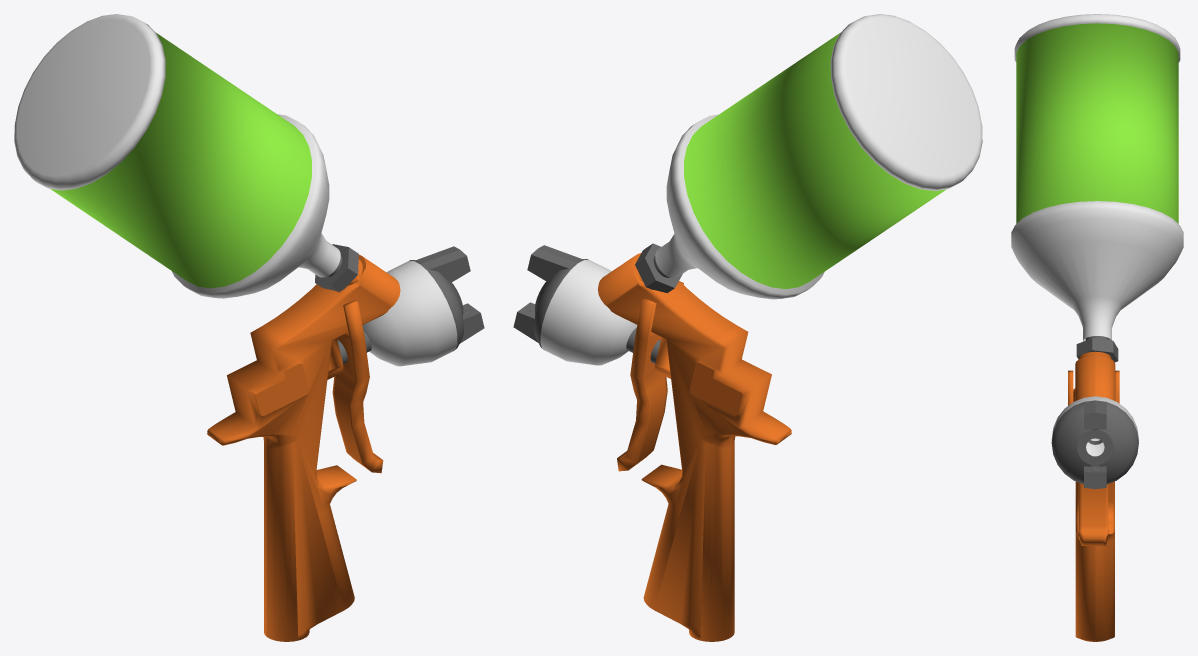
Rendered from spray.fbx.
3 renders of one model, left to right at view 1: azimuth 30°, elevation 25°; view 2: azimuth 150°, elevation 25°; view 3: azimuth 270°, elevation 25°, orthographic. The views are drawn at different scales.
Parts seen in each view (by area): view 1: instance_0.003; view 2: instance_0.003; view 3: instance_0.003.
Part boxes in pixels (left/top/right/bottom): instance_0.003: left=14, top=14, right=484, bottom=641; instance_0.003: left=513, top=14, right=982, bottom=641; instance_0.003: left=1011, top=14, right=1183, bottom=641.
Bounding box in the file's own units: 24.42 × 33.82 × 9.47.
